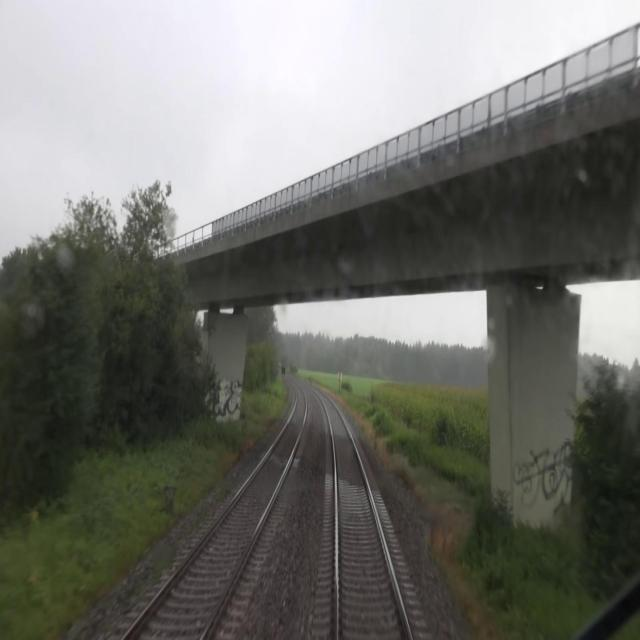rail-track: (128, 389, 304, 639), (325, 399, 407, 639)
